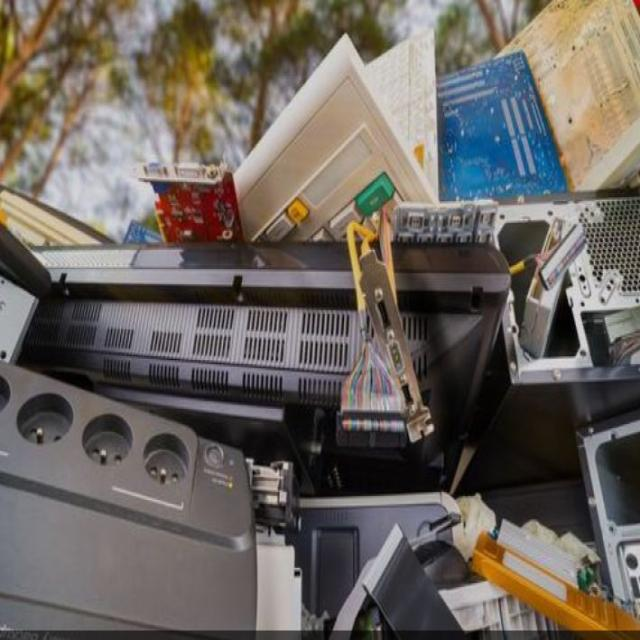electronic: (19, 216, 533, 489), (196, 36, 468, 331), (7, 367, 285, 640), (442, 55, 598, 256), (288, 485, 459, 640)
